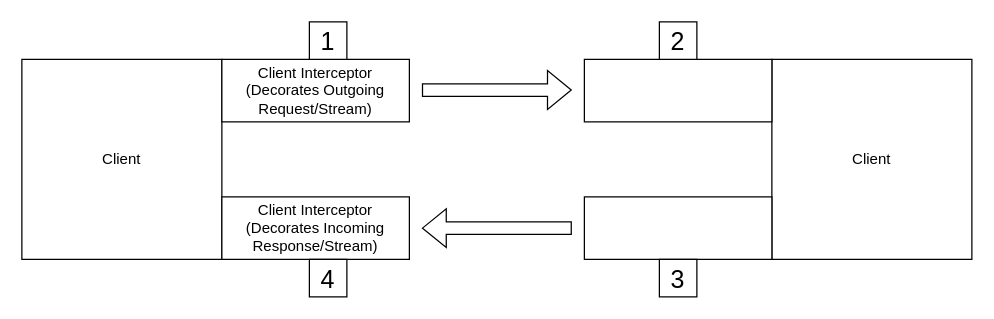
Image size: 994x319. Some labels were removed from this diagram. The shapes that lost their labels are listed below. From the top down, each one's centre as x and y in pixels, then its label:
pixel 677 90: Server Interceptor (Intercepts Incoming Request/Stream)
pixel 677 227: Server Interceptor (Decorates Outgoing Response/Stream)
